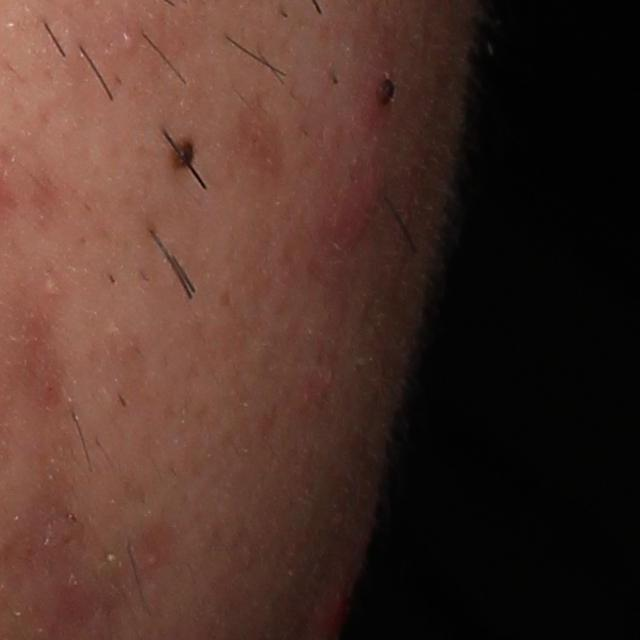nevus: (169, 134, 200, 174)
papule: (330, 171, 386, 253)
